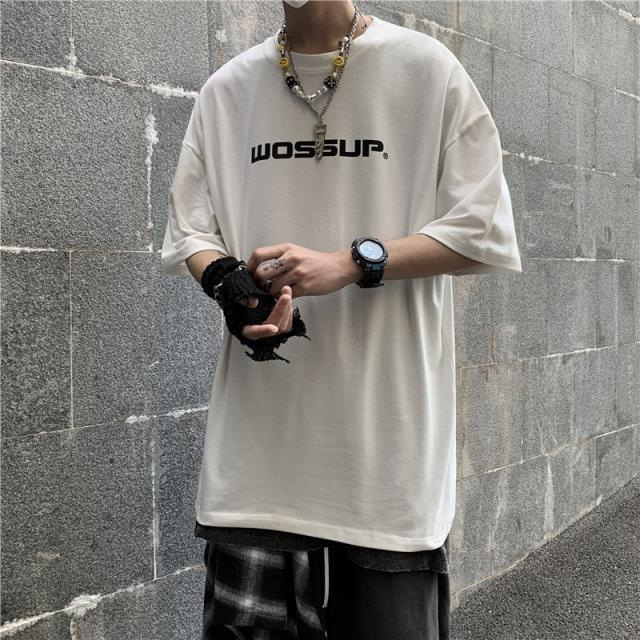Shirt: (160, 15, 524, 554)
